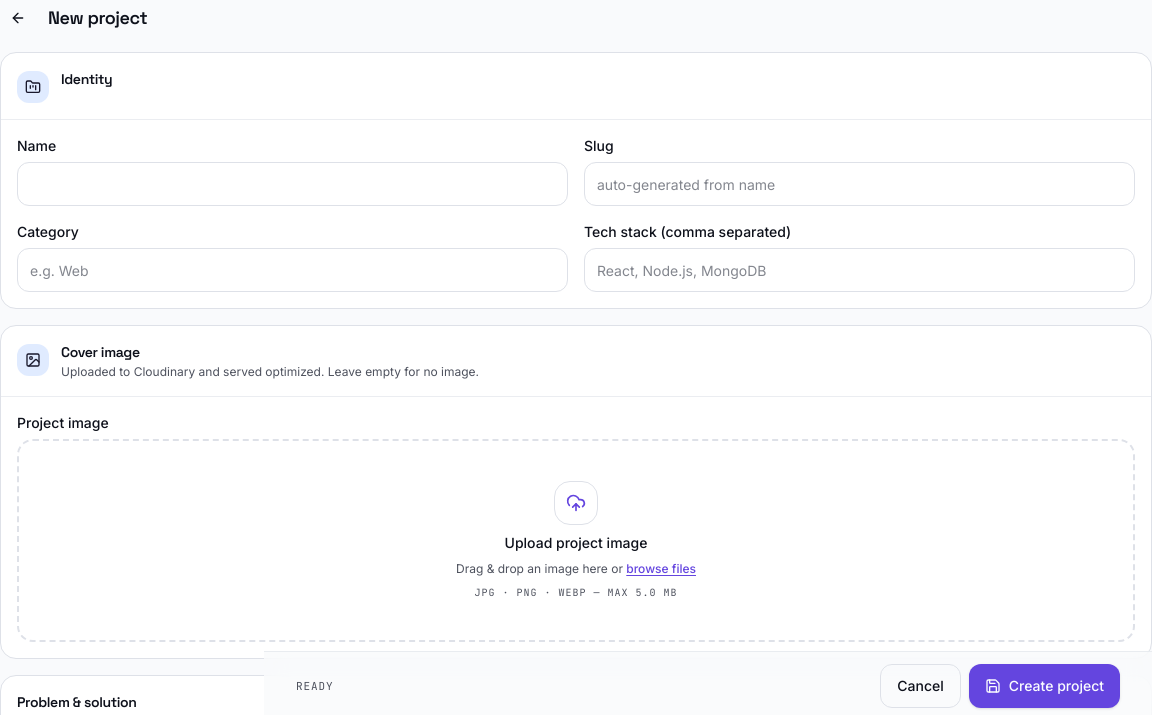
Scenario: ProjectEditor — dirty state lifecycle › 5. navigating away after a successful creation shows no confirmation
In the field labelled "Name": [292, 184] box [17, 162, 568, 206], type "Alpha"
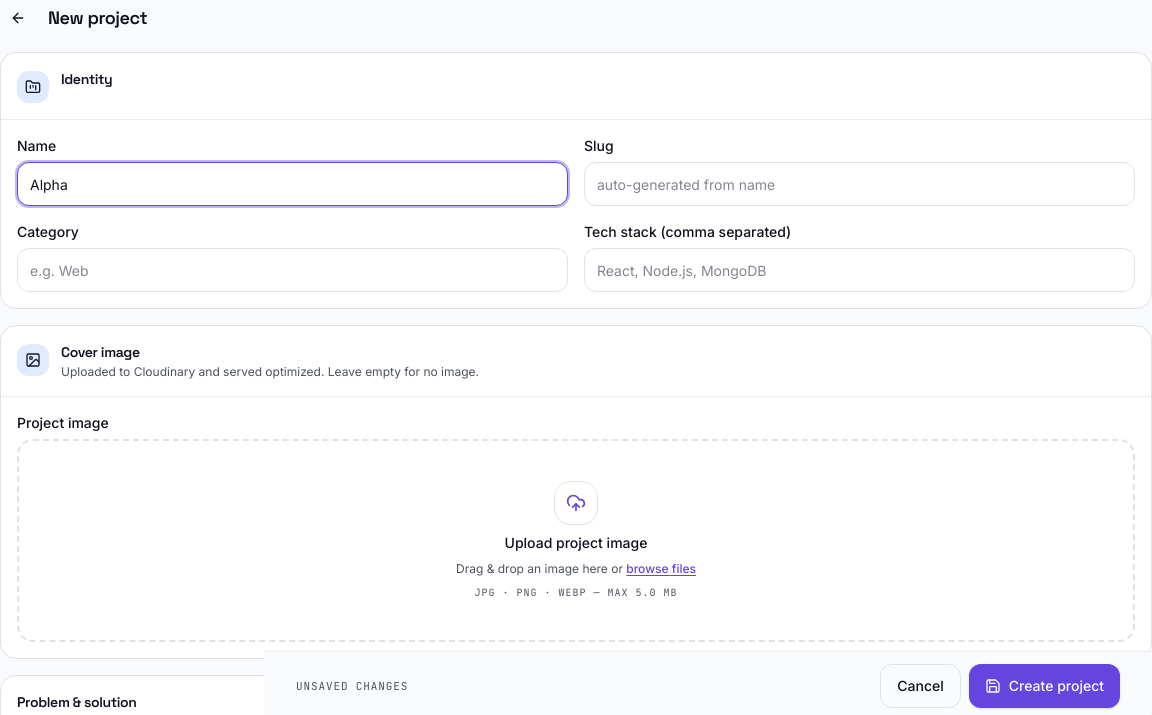
In the field labelled "Category": [292, 270] box [17, 248, 568, 292], type "Web app"
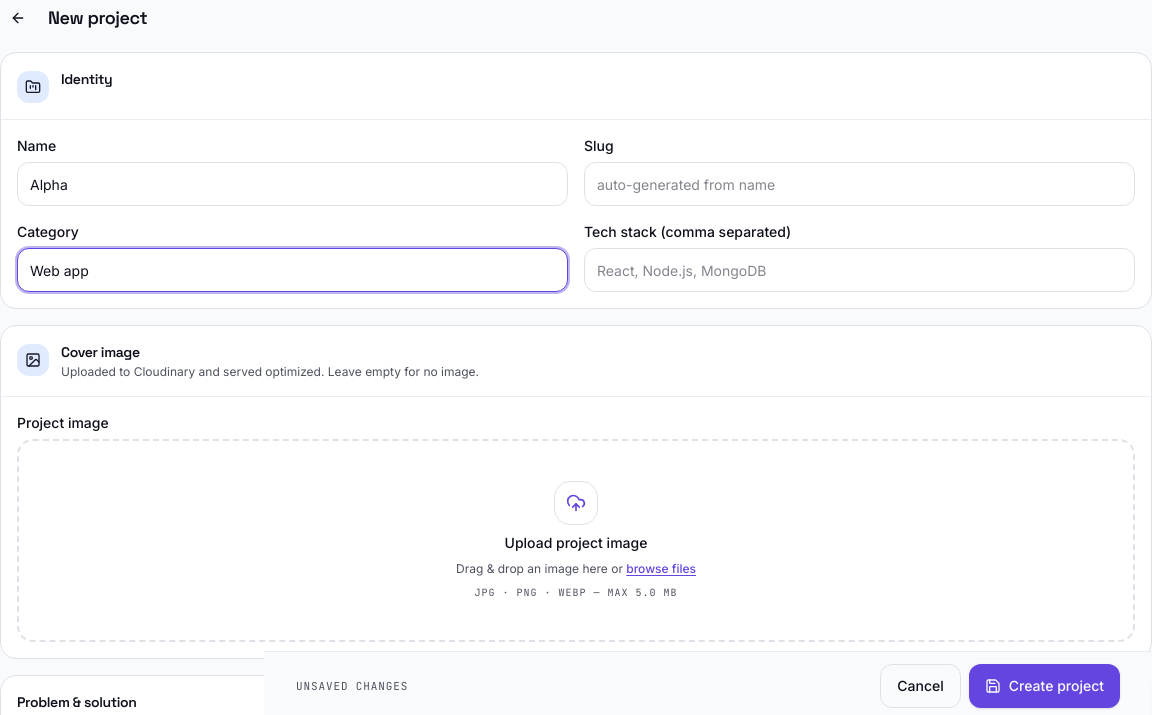
Click the button "Create project": [1044, 686] box [969, 664, 1120, 708]
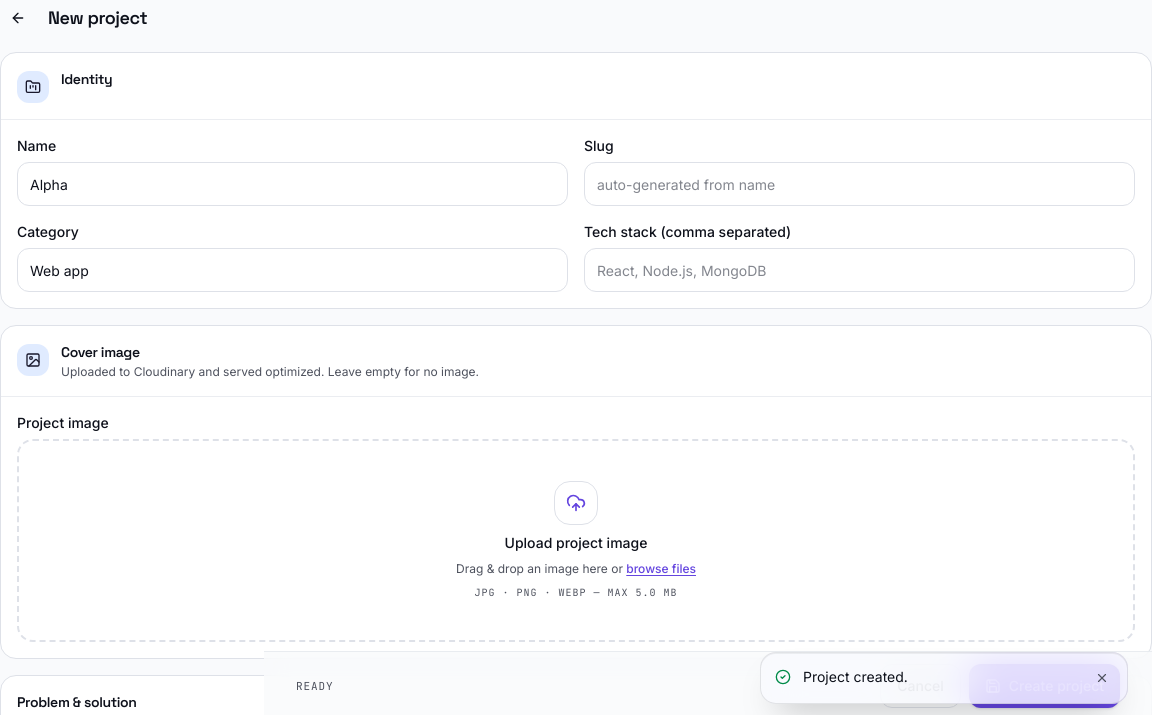
Now the text "Ready" is shown, box [296, 678, 333, 694]
Click the button named "Back to projects": [18, 18] box [0, 0, 36, 36]
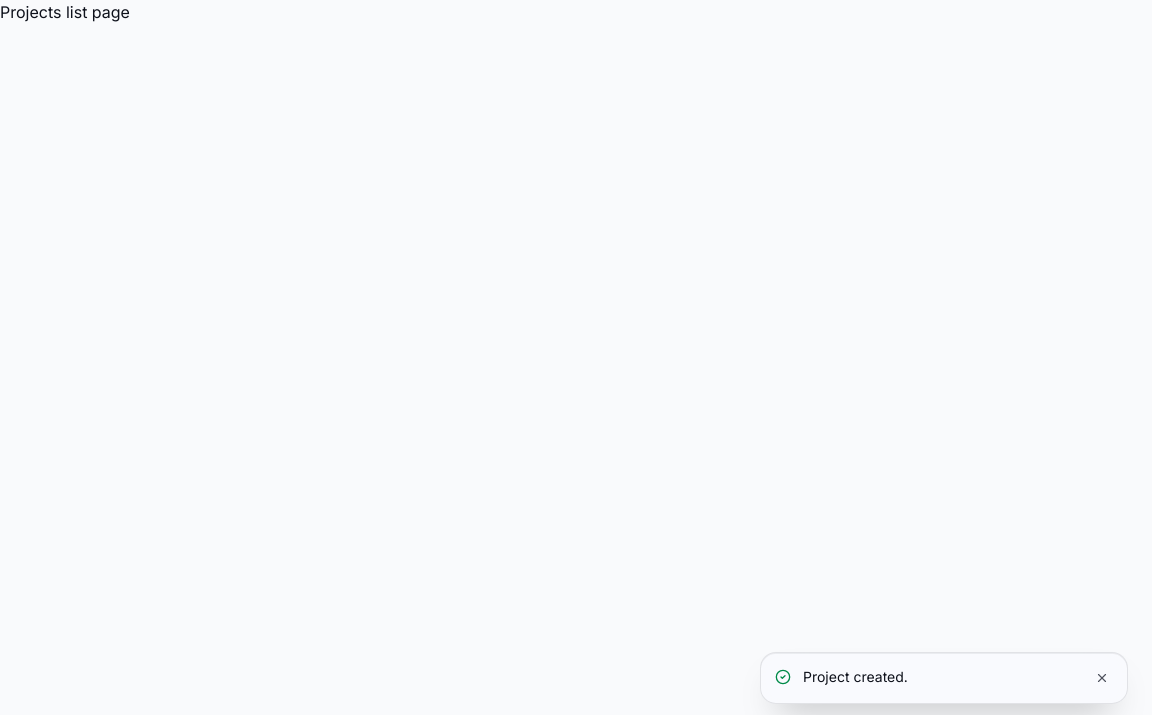
Now the text "Projects list page" is shown, box [0, 2, 130, 22]
